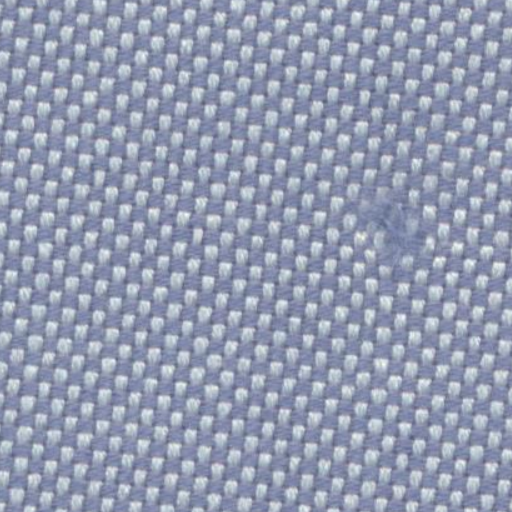MianQiu: (316, 166, 456, 291)
